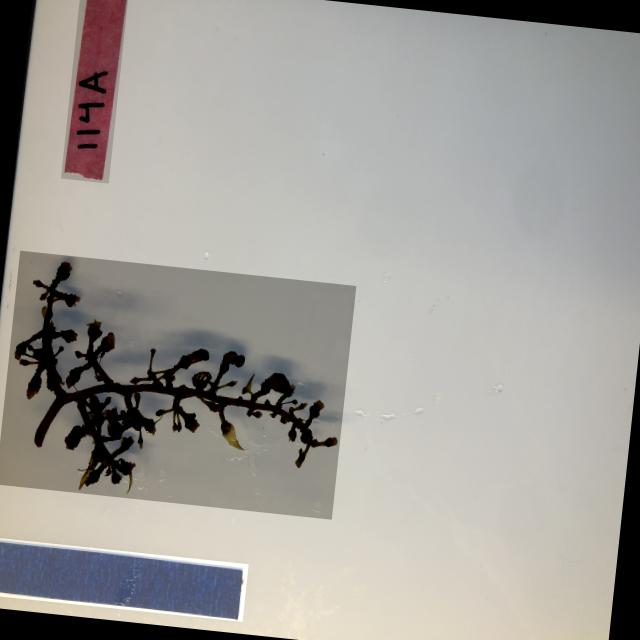index: (60, 0, 129, 182)
measure_label: (0, 535, 248, 620)
rachis_cluster: (0, 249, 356, 518)
